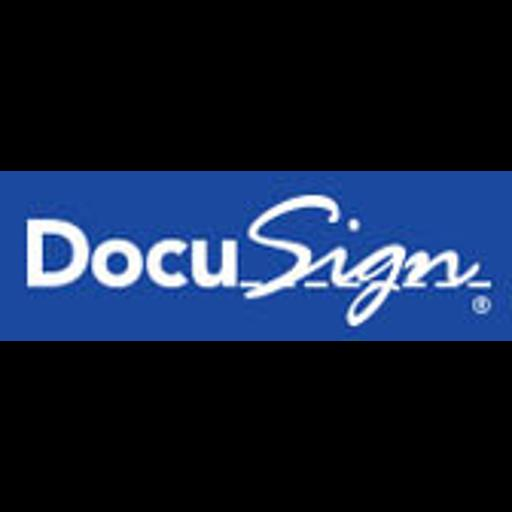DocuSign: (0, 171, 512, 341)
